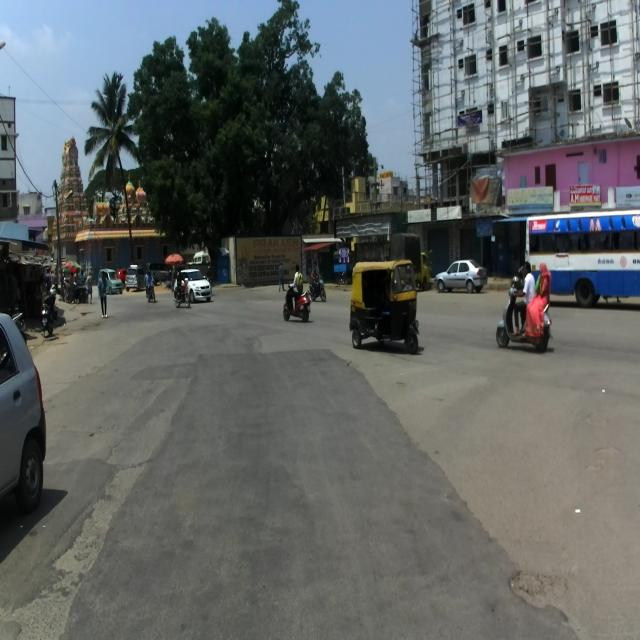Car_Maruti-Suzuki: (0, 311, 50, 531), (175, 266, 213, 306), (98, 266, 122, 296), (123, 267, 147, 291)
autorickshaw: (348, 258, 420, 355)
bus: (525, 210, 640, 310)
motorcycle_Hero: (172, 282, 191, 308)
scooter: (492, 281, 552, 352), (281, 283, 312, 321)
